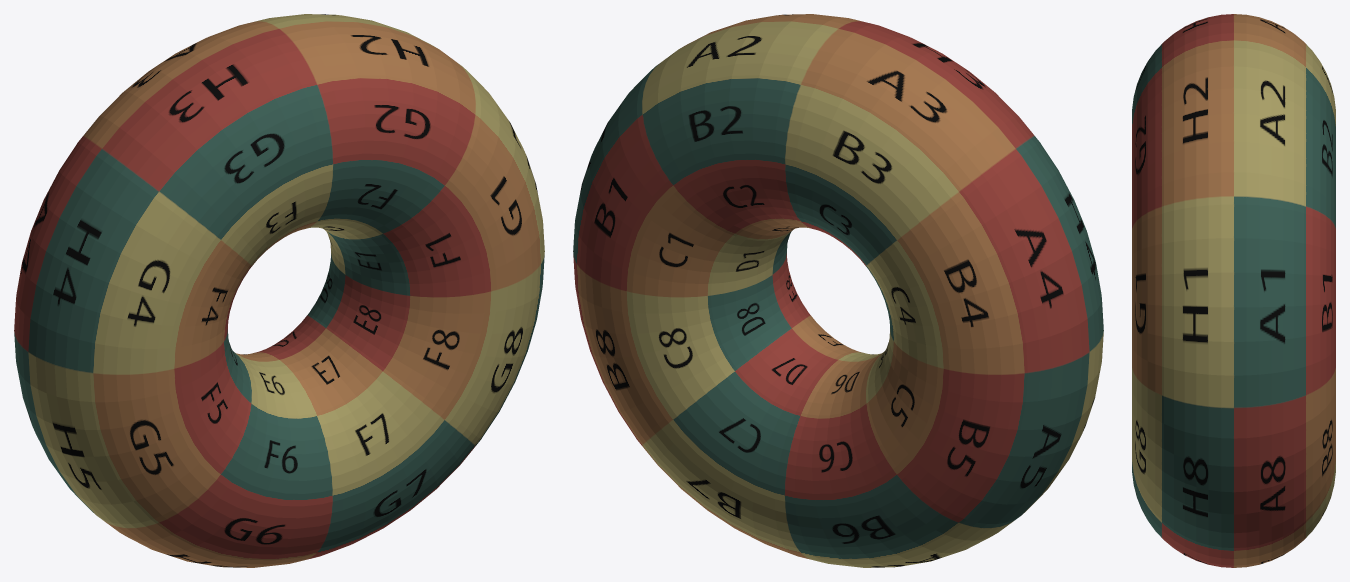
Rendered from texture_torus_R10_r29.glb.
The picture shows the model from 3 angles, left to right: view 1: azimuth 30°, elevation 25°; view 2: azimuth 150°, elevation 25°; view 3: azimuth 270°, elevation 25°; orthographic projection. The views are drawn at different scales.
Visible parts, largest first — view 1: world; view 2: world; view 3: world.
Boxes of the visible parts, x1,y1,x2,y2 form: world: (14, 14, 544, 567); world: (573, 14, 1103, 567); world: (1132, 14, 1335, 567).
Bounding box in the file's own units: 26.4 × 26.35 × 9.71.
Materials: 1 (1 with a texture image).
